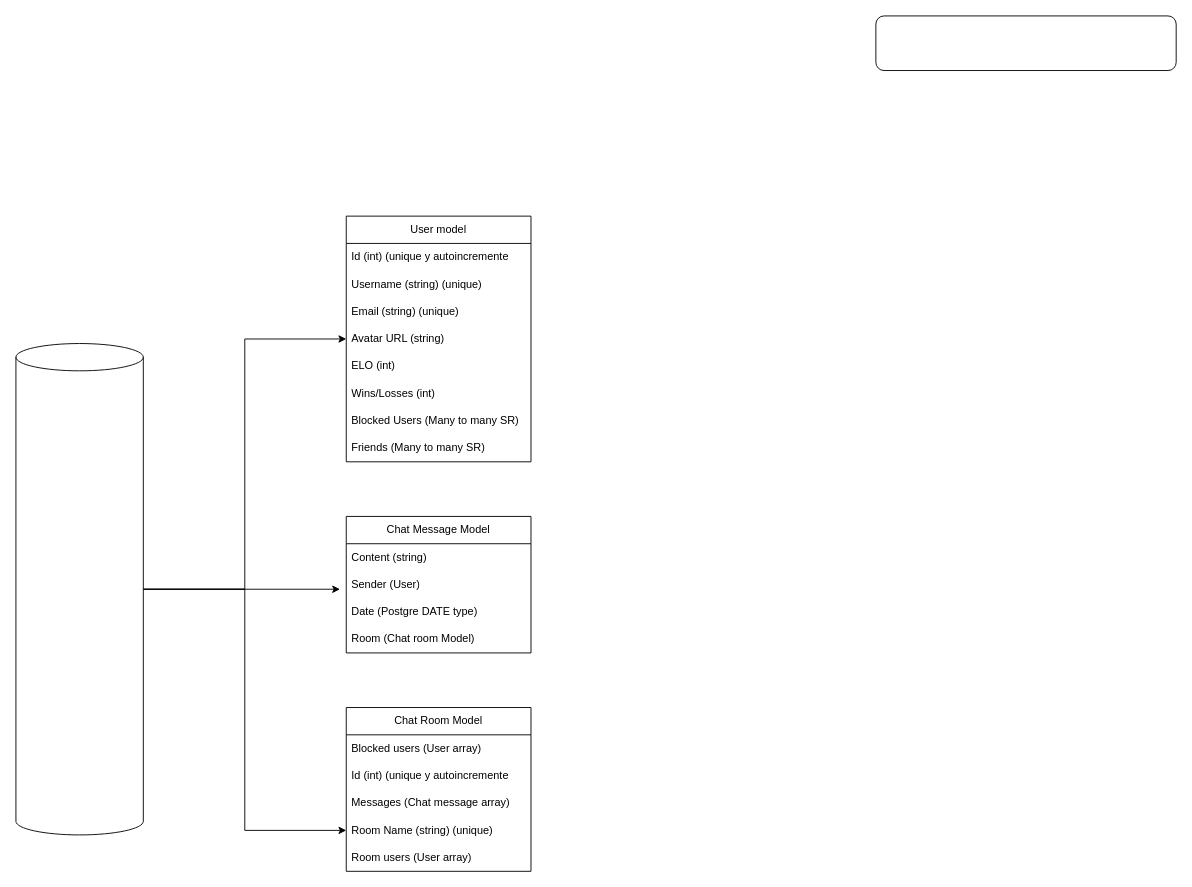
Some shapes in this 1192 by 887 pixel diagram are drawn without their labels. The centre of each missing label's shape, as x and y in pixels:
"BACKEND" goes at pixel 1025 43.
"Base de datos" goes at pixel 79 589.
